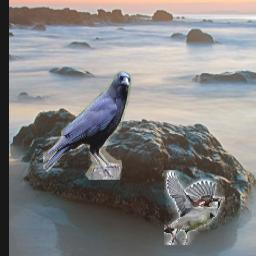Crow: (43, 71, 133, 180)
Sparrow: (163, 171, 224, 246)
